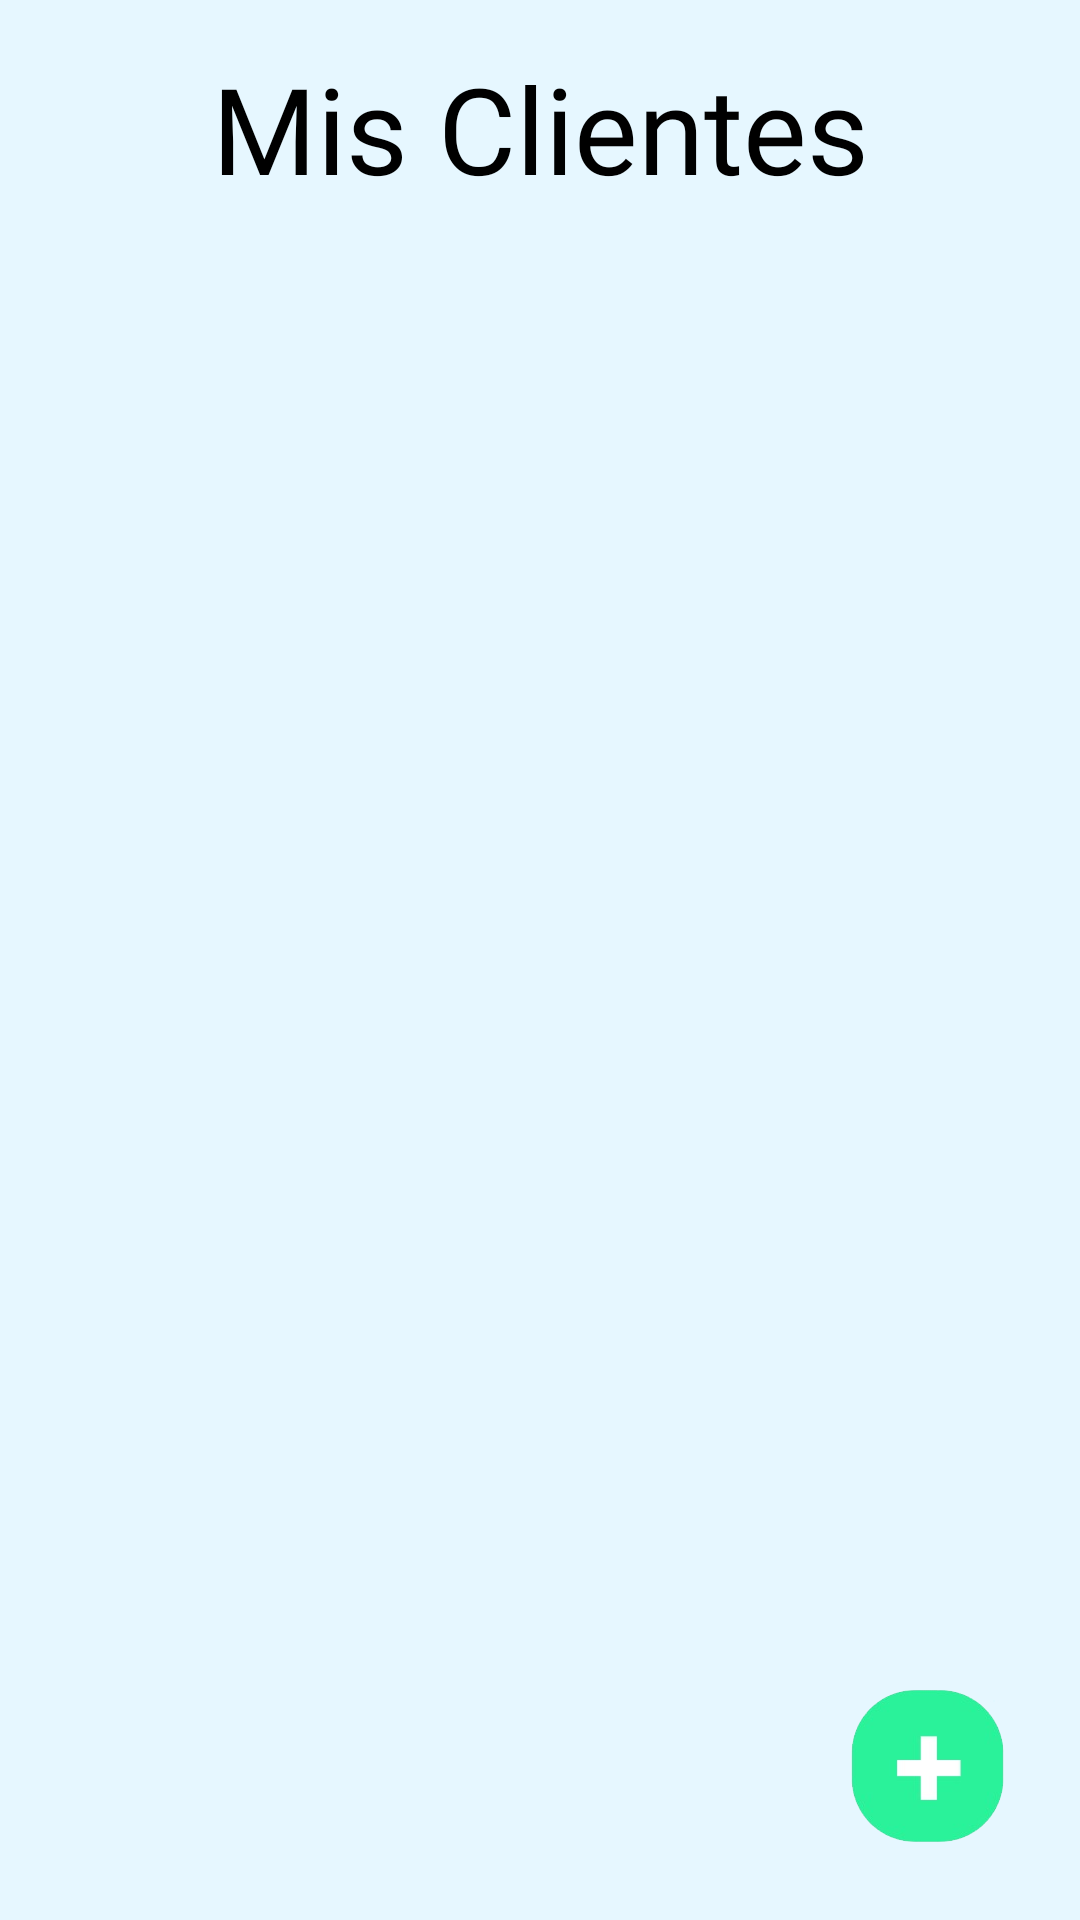

Named icons in this screenshot (1080x1920) and their centers, point (x, y):
Agregar mascota: point (927, 1766)
